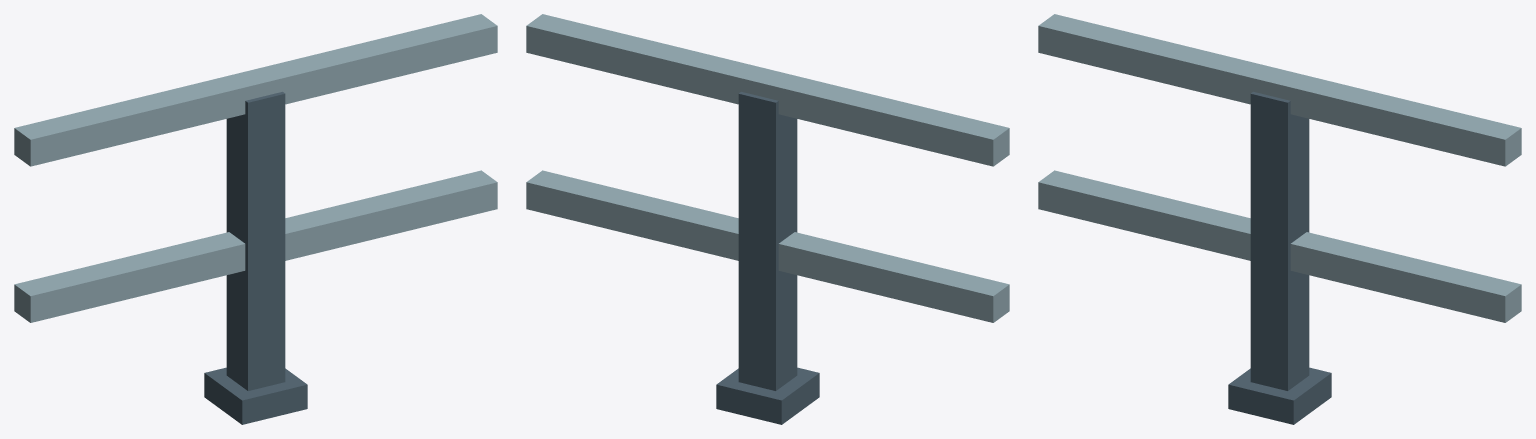
The model's file is rail_straight.glb.
3 renders of one model, left to right at view 1: azimuth 30°, elevation 25°; view 2: azimuth 150°, elevation 25°; view 3: azimuth 330°, elevation 25°, orthographic.
Visible parts, largest first — view 1: Rail.001, Rail, Post, Foot; view 2: Rail.001, Rail, Post, Foot; view 3: Rail.001, Rail, Post, Foot.
Part boxes in pixels (x1,y1,x2,y2): Rail.001: [14, 14, 497, 166]; Rail: [14, 170, 497, 322]; Post: [226, 91, 285, 390]; Foot: [204, 367, 307, 424]; Rail.001: [526, 14, 1009, 166]; Rail: [526, 170, 1009, 322]; Post: [738, 91, 797, 390]; Foot: [716, 367, 819, 424]; Rail.001: [1038, 14, 1521, 166]; Rail: [1038, 170, 1521, 322]; Post: [1250, 91, 1309, 390]; Foot: [1228, 367, 1331, 424].
Size of the model in its own units: 2 by 1.33 by 0.28.
